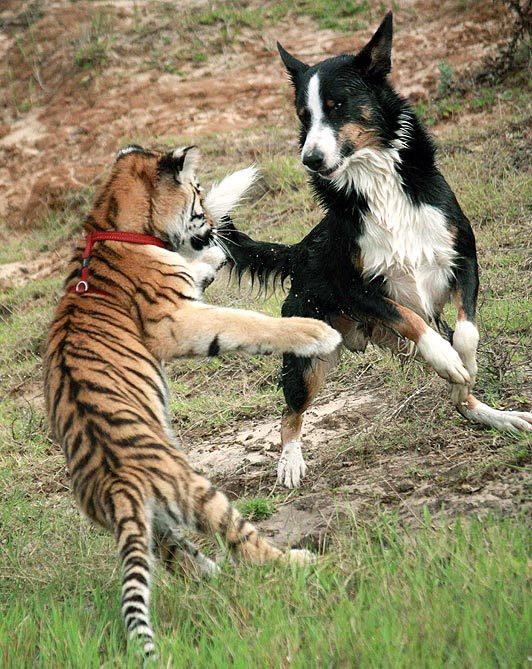dog: (220, 14, 532, 487)
tiger: (43, 148, 338, 663)
